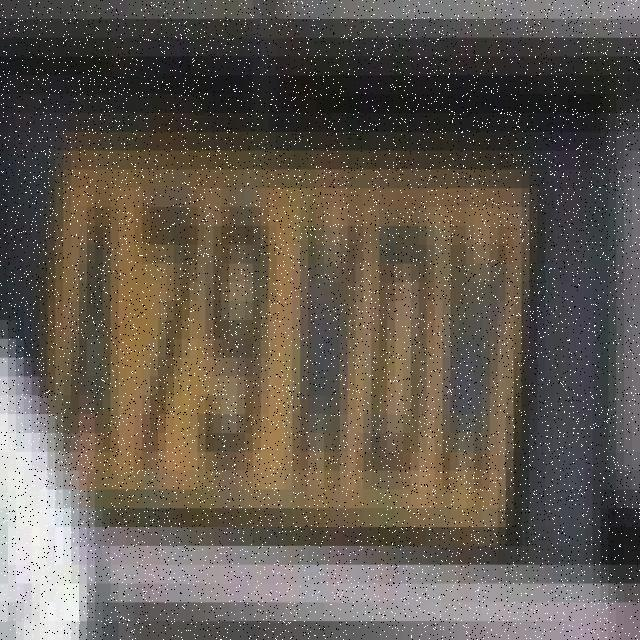licenseplate: (44, 119, 560, 568)
